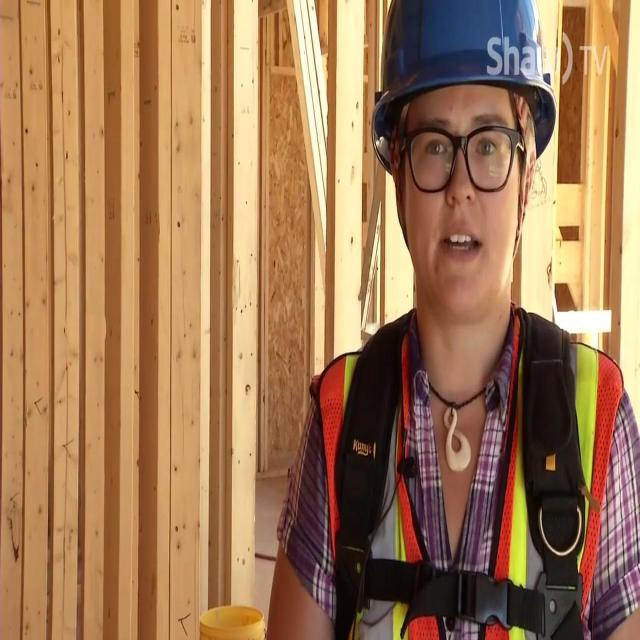Vest: (309, 313, 625, 639)
